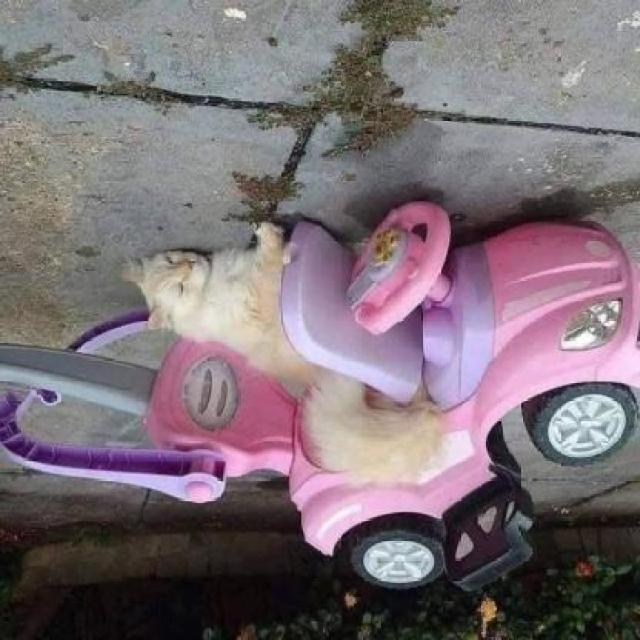cat: (133, 206, 436, 512)
